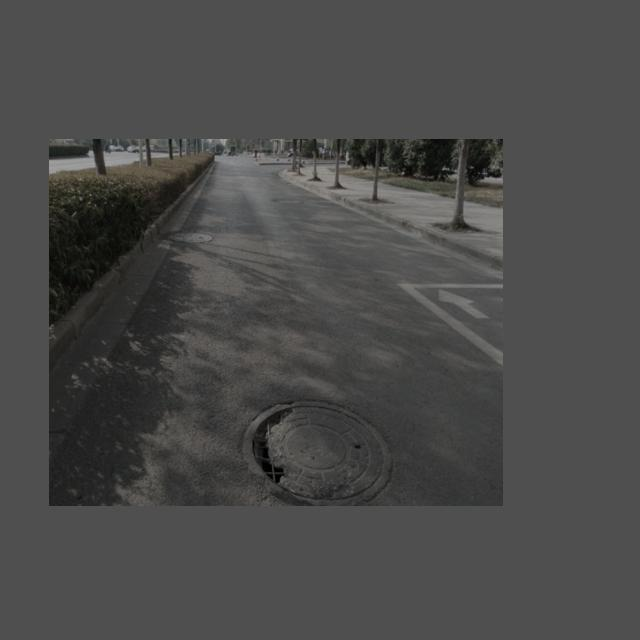broke: (242, 398, 393, 506)
